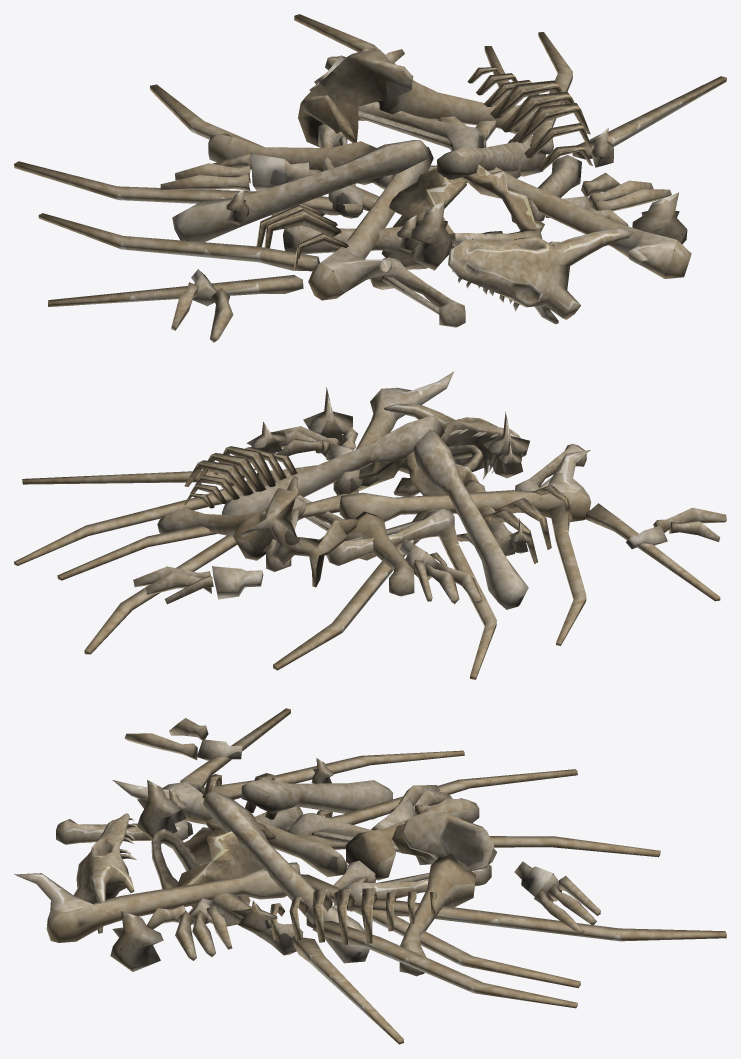
The model's file is Toon_Skeleton_04.fbx.
3 views of the same model, one above another, from view 1: azimuth 30°, elevation 25°; view 2: azimuth 150°, elevation 25°; view 3: azimuth 270°, elevation 25° (orthographic). The views are drawn at different scales.
Visible parts, largest first — view 1: Toon_Skeleton_04; view 2: Toon_Skeleton_04; view 3: Toon_Skeleton_04.
Part boxes in pixels (x1,y1,x2,y2): Toon_Skeleton_04: (14,14,726,342); Toon_Skeleton_04: (14,371,726,679); Toon_Skeleton_04: (14,708,726,1044).
Bounding box in the file's own units: 51.04 × 9.06 × 46.2.
